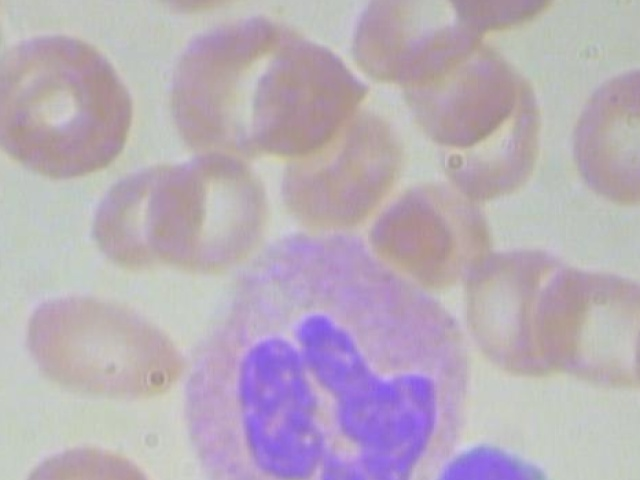RBC: (19, 272, 190, 421), (383, 14, 528, 160), (457, 241, 606, 379), (144, 139, 272, 271), (0, 27, 121, 166), (526, 256, 640, 402), (86, 154, 209, 273), (560, 56, 640, 207), (7, 440, 178, 480), (0, 0, 3, 75)
WBC: (185, 223, 495, 480), (371, 440, 603, 480)
